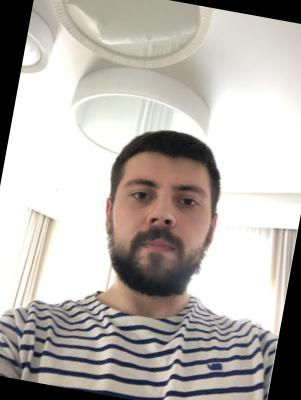without_mask: (101, 166, 216, 306)
